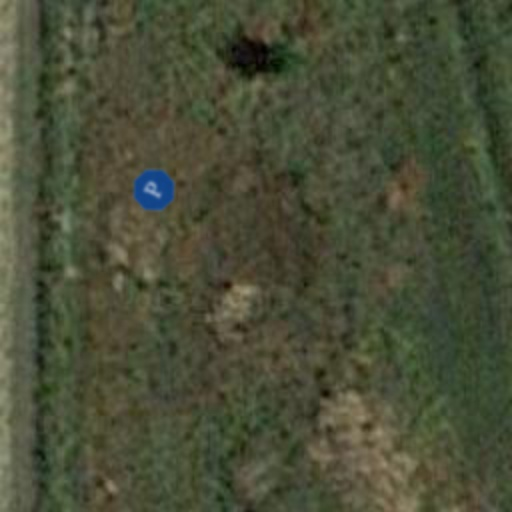octagon: (124, 160, 184, 220)
